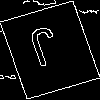J: (25, 25, 67, 77)
